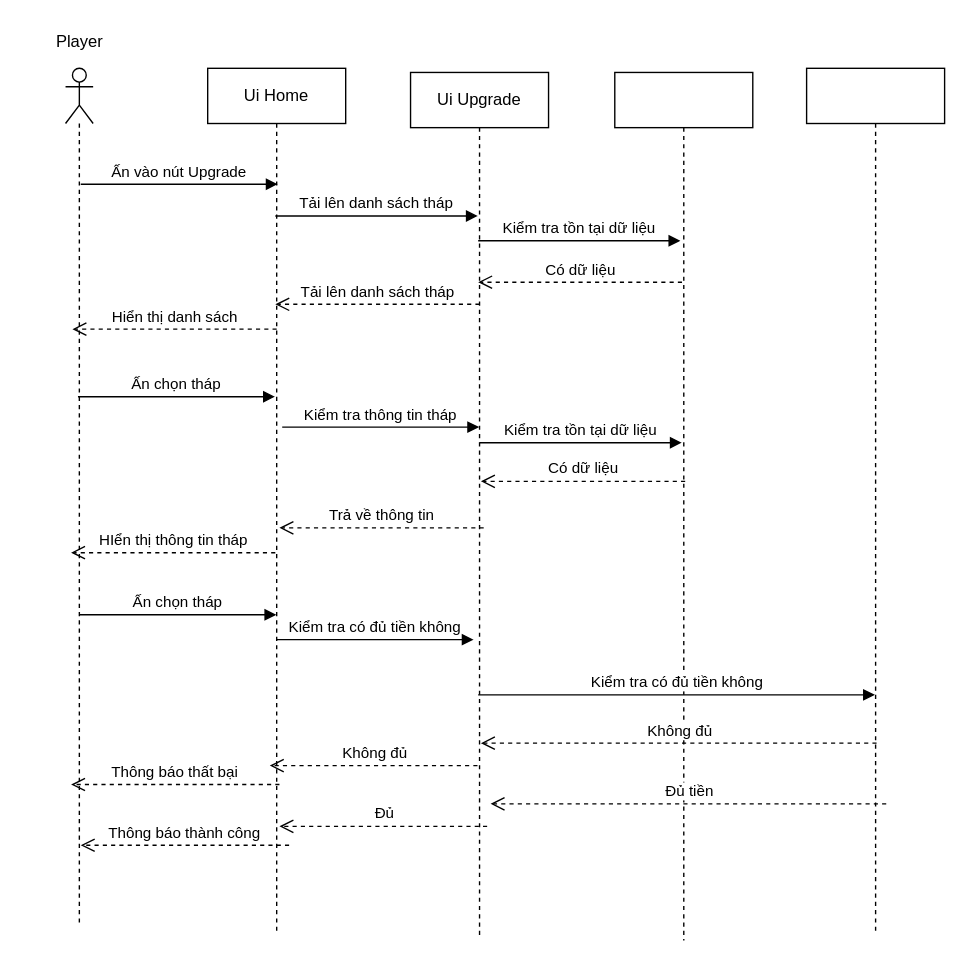
Image size: 969x965. Some labels were removed from this diagram. Here are the shapes that lost their labels. From the top down, the box of each, then its label:
(613, 71, 753, 940): Data Towers
(805, 67, 945, 934): Data Player
